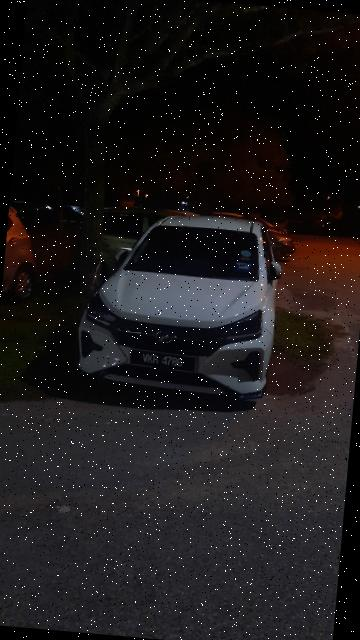License_Plate: (127, 348, 201, 378)
car: (70, 198, 291, 413)
